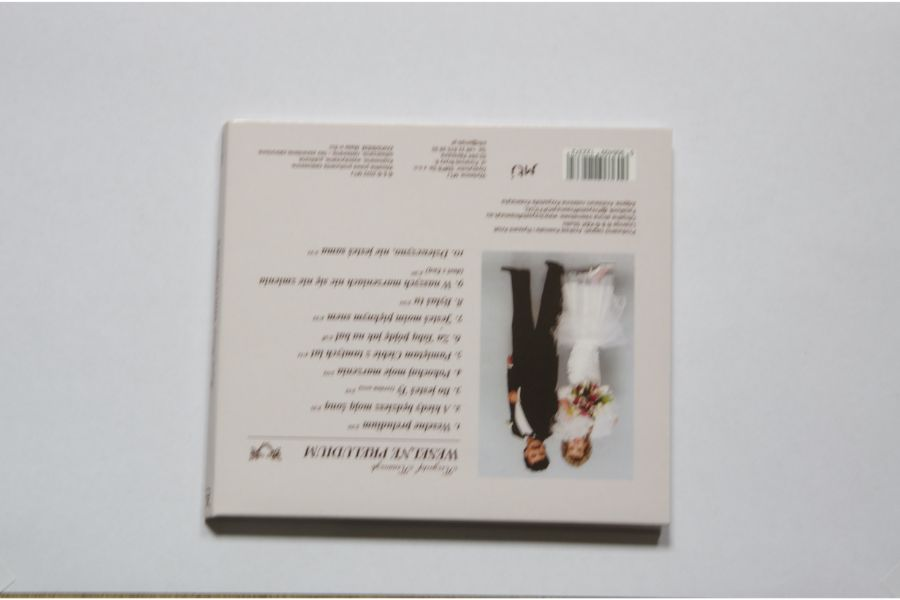album: (205, 120, 675, 531)
